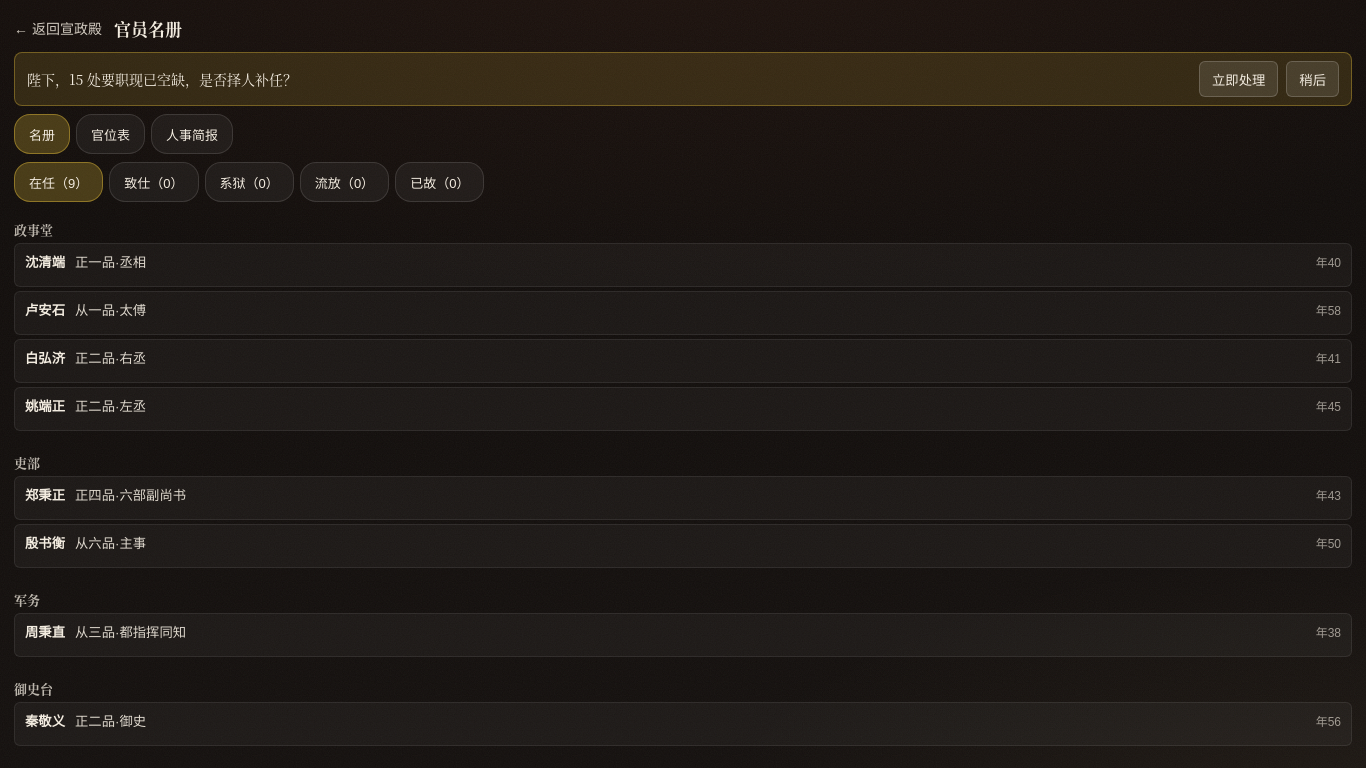
OfficialsScreen — 人事简报 tab (PR3C-2) › shows the latest annual review changes
Click the button "人事简报": (192, 134) [151, 114, 233, 154]
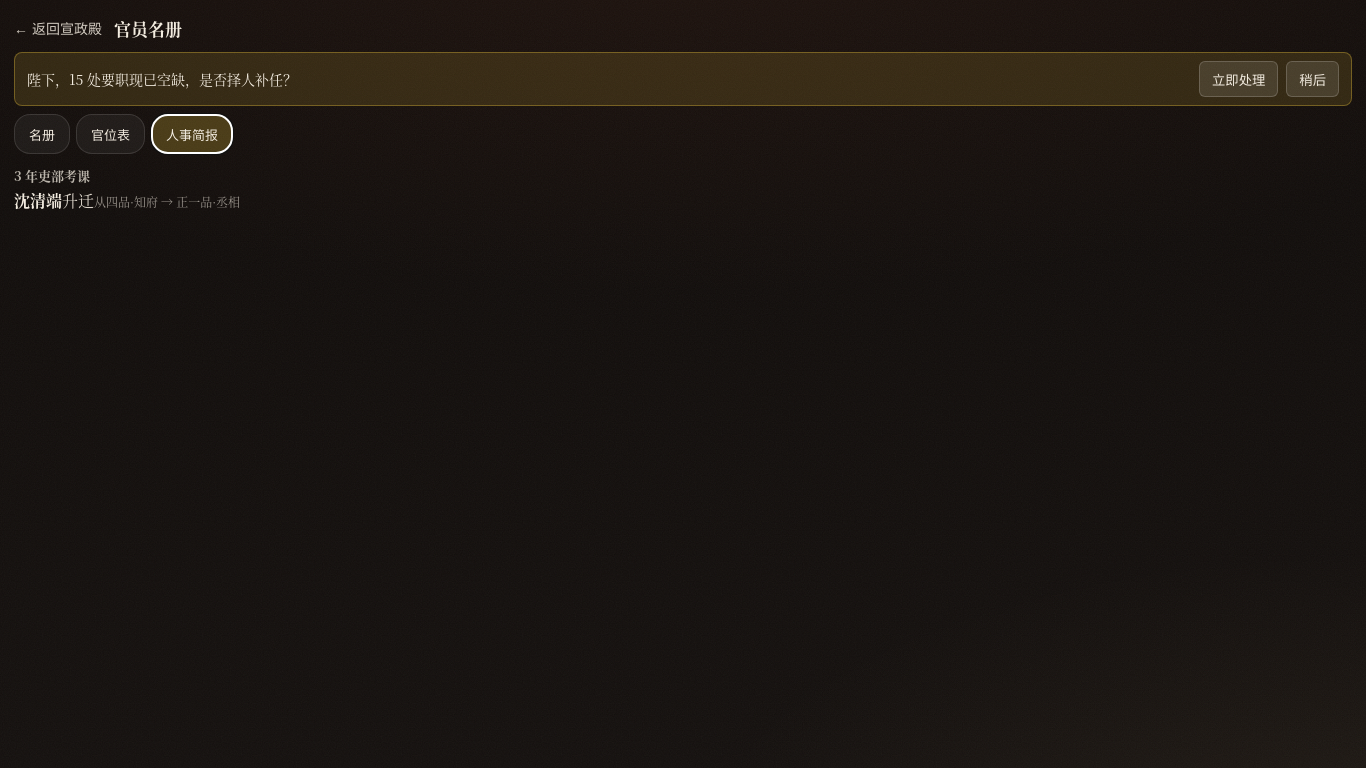
Expected: the heading "3 年吏部考课" is shown, [14, 166, 90, 185]
Expected: the text "升迁" is shown, [62, 189, 94, 212]
